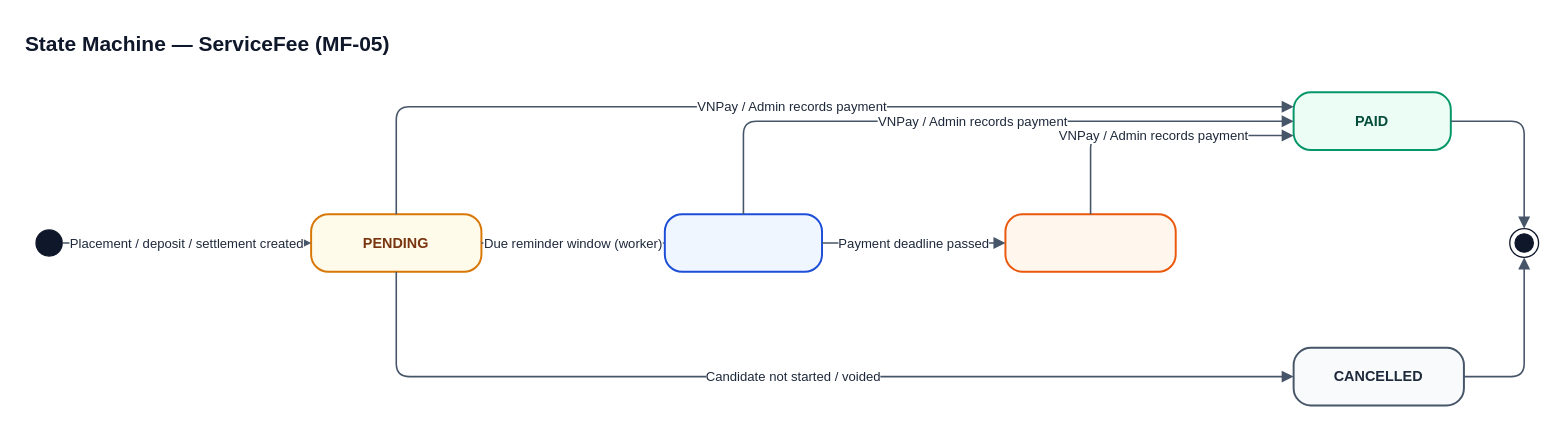
Some shapes in this 1564 by 428 pixel diagram are drawn without their labels. Here are the shapes that lost their labels. From the top down, the box of each, then its label:
(663, 213, 822, 272): DUE
(1004, 213, 1176, 272): OVERDUE
